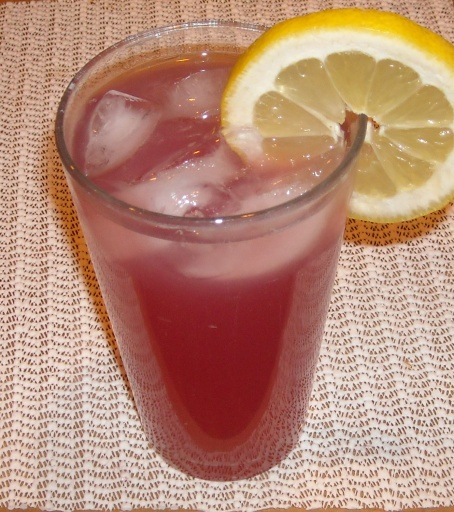background: (49, 7, 321, 387)
